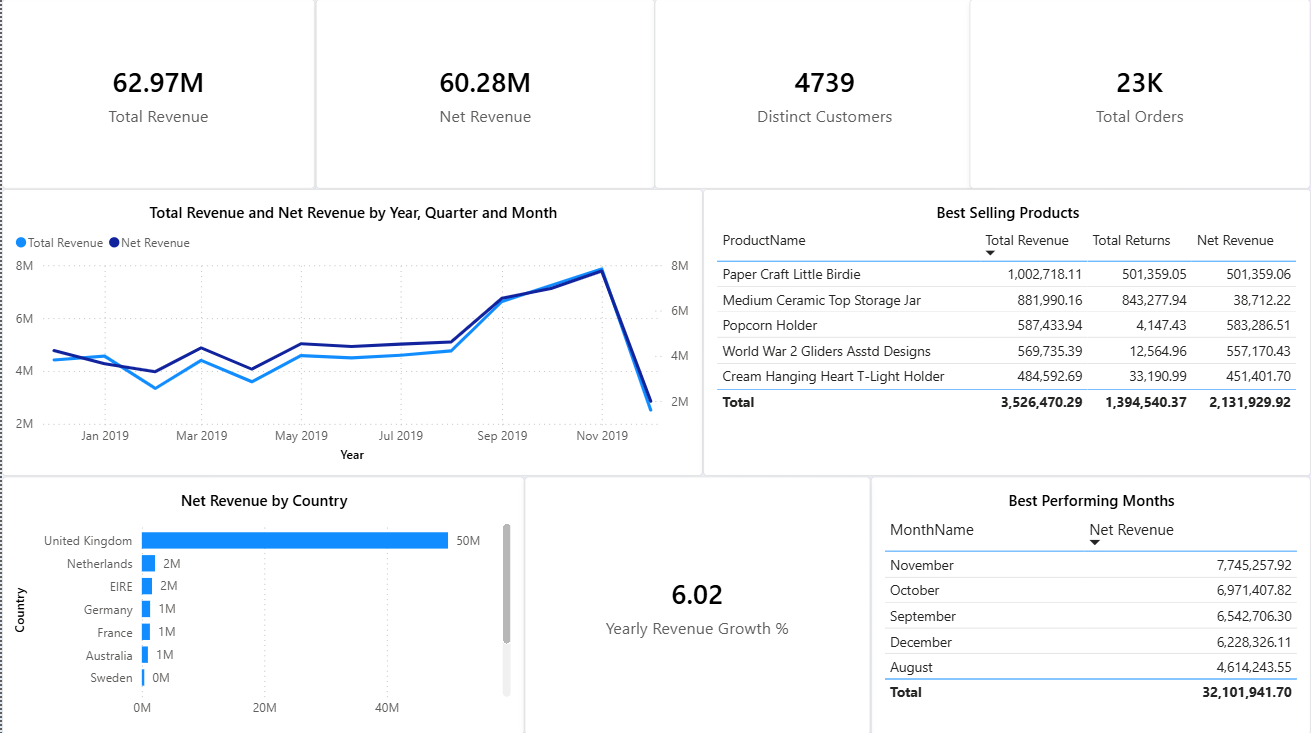

Layout of this report page (visuals, bound fields, positions):
{"tool":"powerbi","page":{"name":"Page 1","canvas":[1280,720],"ordinal":0},"visuals":[{"type":"card","fields":{"Values":["CustomerInfo.Total Revenue"]},"box":[0,0,306.6,185.6],"z":0},{"type":"card","fields":{"Values":["CustomerInfo.Net Revenue"]},"box":[306.6,0,332.2,185.6],"z":1000},{"type":"card","fields":{"Values":["CustomerInfo.Distinct Customers"]},"box":[638.8,0,333.5,185.6],"z":2000},{"type":"card","fields":{"Values":["CustomerInfo.Total Orders"]},"box":[946.8,0,333.5,185.6],"z":3000},{"type":"lineChart","fields":{"Y":["CustomerInfo.Total Revenue"],"Category":["DimDate.Date.Variation.Date Hierarchy.Year","DimDate.Date.Variation.Date Hierarchy.Quarter","DimDate.Date.Variation.Date Hierarchy.Month"],"Y2":["CustomerInfo.Net Revenue"]},"box":[0,185.6,685.9,281.1],"z":4000},{"type":"tableEx","title":"Best Selling Products","fields":{"Values":["ProductInfo.ProductName","CustomerInfo.Total Revenue","CustomerInfo.Total Returns","CustomerInfo.Net Revenue"]},"box":[685.9,185.6,594.4,281.1],"z":5000},{"type":"barChart","fields":{"Y":["CustomerInfo.Net Revenue"],"Category":["CustomerInfo.Country"]},"box":[0,466.7,511,252.8],"z":6000},{"type":"tableEx","title":"Best Performing Months","fields":{"Values":["DimDate.MonthName","CustomerInfo.Net Revenue"]},"box":[849.9,466.7,430.3,252.8],"z":7000},{"type":"card","fields":{"Values":["CustomerInfo.Revenue YoY %"]},"box":[511.4,467.1,338.6,252.9],"z":8000}]}

Visuals, with their boxes in screenshot pixels (x1, y1, x2, y2), scaled from the page's 1280x720 canvas onto the 1311x733 screenshot:
card - CustomerInfo.Total Revenue: (left=0, top=0, right=314, bottom=189)
card - CustomerInfo.Net Revenue: (left=314, top=0, right=654, bottom=189)
card - CustomerInfo.Distinct Customers: (left=654, top=0, right=996, bottom=189)
card - CustomerInfo.Total Orders: (left=970, top=0, right=1310, bottom=189)
lineChart - CustomerInfo.Total Revenue x DimDate.Date.Variation.Date Hierarchy.Year: (left=0, top=189, right=703, bottom=475)
"Best Selling Products" tableEx: (left=703, top=189, right=1310, bottom=475)
barChart - CustomerInfo.Net Revenue x CustomerInfo.Country: (left=0, top=475, right=523, bottom=732)
"Best Performing Months" tableEx: (left=870, top=475, right=1310, bottom=732)
card - CustomerInfo.Revenue YoY %: (left=524, top=476, right=871, bottom=732)
